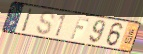1: (55, 14, 67, 39)
6: (104, 22, 124, 48)
9: (87, 19, 106, 44)
F: (69, 16, 91, 40)
I: (21, 7, 34, 34)
S: (35, 10, 56, 36)
